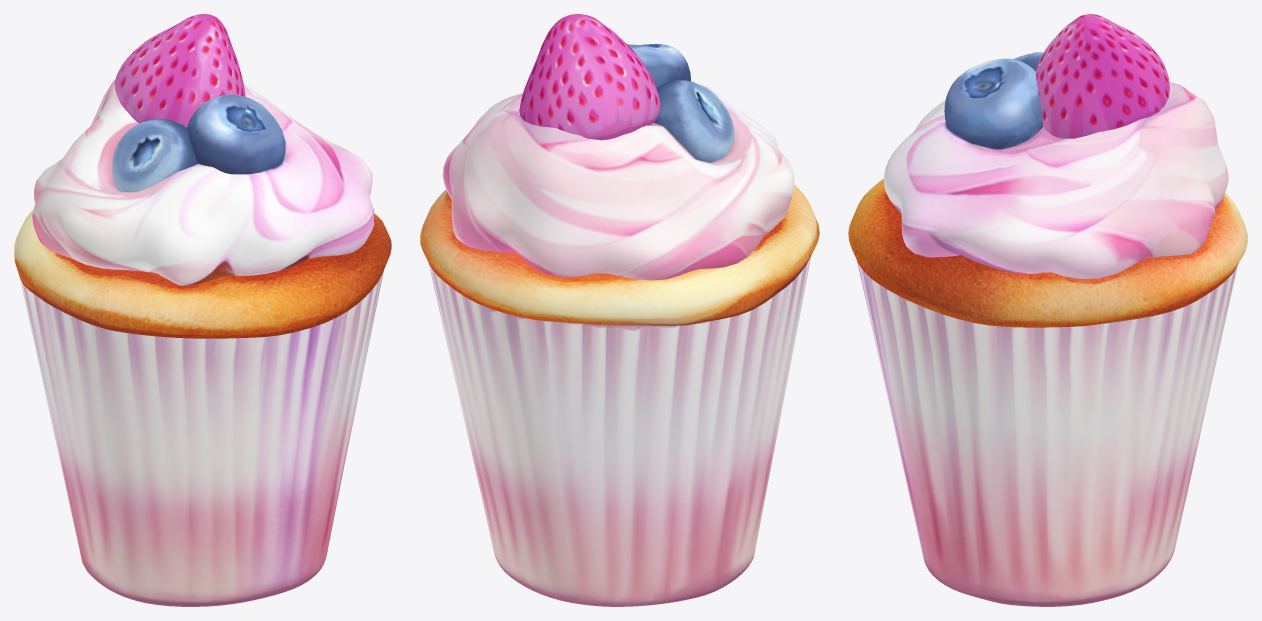
Rendered from sundae.glb.
3 views of the same model, side by side, from view 1: azimuth 30°, elevation 25°; view 2: azimuth 150°, elevation 25°; view 3: azimuth 270°, elevation 25° (orthographic). The views are drawn at different scales.
Parts seen in each view (by area): view 1: base, cream, cupcake, blueberries, berry; view 2: base, cream, cupcake, berry, blueberries; view 3: base, cream, cupcake, berry, blueberries.
Part boxes in pixels (left/top/right/bottom): base: left=20, top=270, right=383, bottom=606; cream: left=32, top=80, right=374, bottom=285; cupcake: left=14, top=209, right=391, bottom=338; blueberries: left=112, top=94, right=285, bottom=191; berry: left=114, top=14, right=245, bottom=127; base: left=428, top=256, right=811, bottom=606; cream: left=442, top=86, right=794, bottom=280; cupcake: left=420, top=184, right=819, bottom=325; berry: left=519, top=14, right=660, bottom=140; blueberries: left=627, top=44, right=734, bottom=162; base: left=857, top=261, right=1237, bottom=606; cream: left=883, top=82, right=1228, bottom=278; cupcake: left=848, top=178, right=1247, bottom=327; berry: left=1035, top=14, right=1169, bottom=138; blueberries: left=944, top=52, right=1043, bottom=149.
Size of the model in its own units: 5.25 by 8.15 by 5.36.
Materials: 1 (1 with a texture image).
